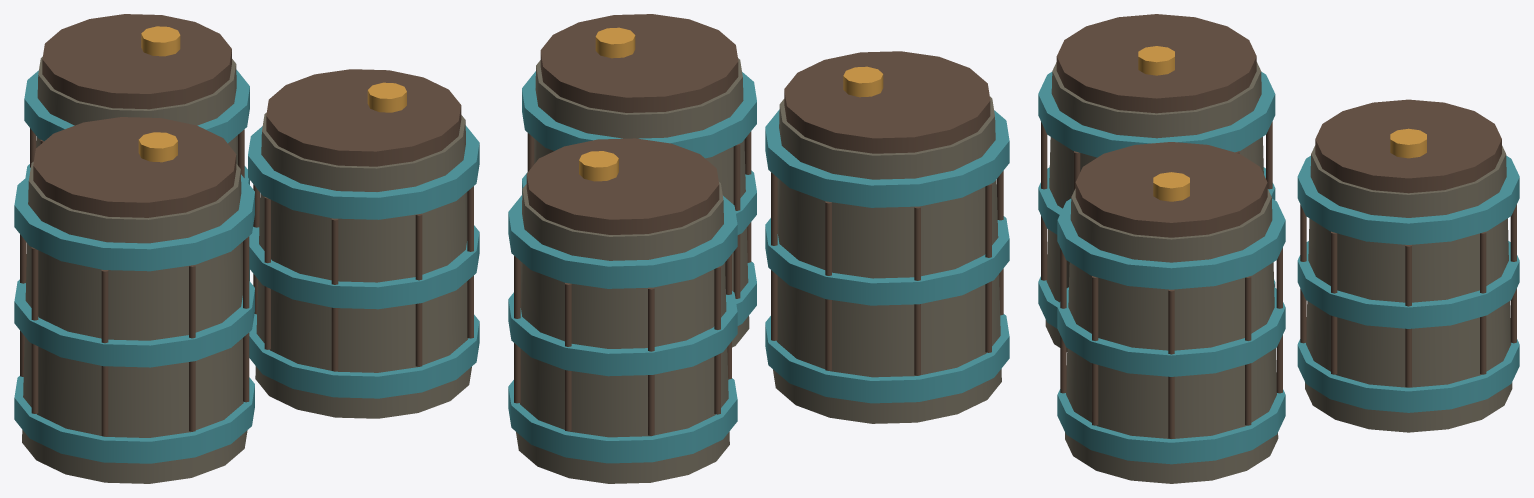
Rendered from river_cargo_water.glb.
The picture shows the model from 3 angles, left to right: view 1: azimuth 30°, elevation 25°; view 2: azimuth 150°, elevation 25°; view 3: azimuth 270°, elevation 25°; orthographic projection. The views are drawn at different scales.
Parts seen in each view (by area): view 1: river_cargo_water weathered_wood, river_cargo_water wood, river_cargo_water copper, river_cargo_water ochre; view 2: river_cargo_water weathered_wood, river_cargo_water wood, river_cargo_water copper, river_cargo_water ochre; view 3: river_cargo_water weathered_wood, river_cargo_water wood, river_cargo_water copper, river_cargo_water ochre.
Part boxes in pixels (x1=…): river_cargo_water weathered_wood: x1=22, y1=56, x2=471, y2=483; river_cargo_water wood: x1=20, y1=14, x2=473, y2=436; river_cargo_water copper: x1=14, y1=69, x2=479, y2=463; river_cargo_water ochre: x1=138, y1=26, x2=406, y2=162; river_cargo_water weathered_wood: x1=516, y1=58, x2=1001, y2=483; river_cargo_water wood: x1=514, y1=14, x2=1003, y2=436; river_cargo_water copper: x1=508, y1=71, x2=1009, y2=463; river_cargo_water ochre: x1=579, y1=27, x2=883, y2=181; river_cargo_water weathered_wood: x1=1045, y1=62, x2=1512, y2=483; river_cargo_water wood: x1=1041, y1=14, x2=1516, y2=438; river_cargo_water copper: x1=1038, y1=72, x2=1519, y2=464; river_cargo_water ochre: x1=1138, y1=46, x2=1426, y2=201.
Size of the model in its own units: 0.337 by 0.211 by 0.325.
